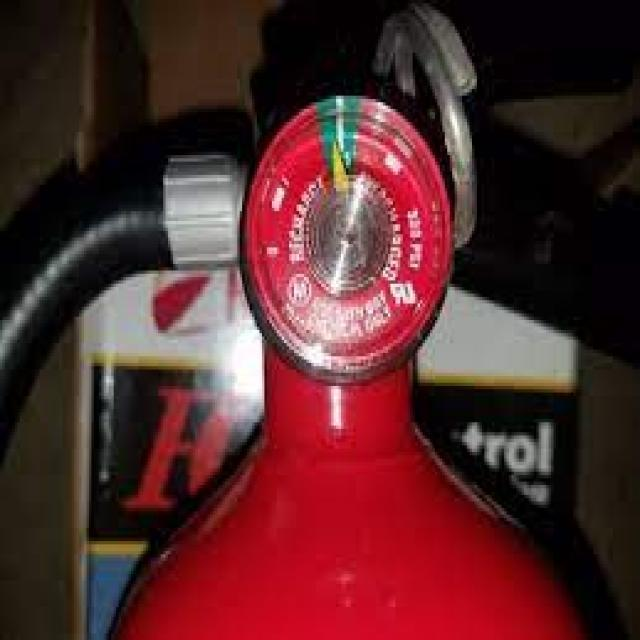pressure gauge: (242, 97, 452, 380)
